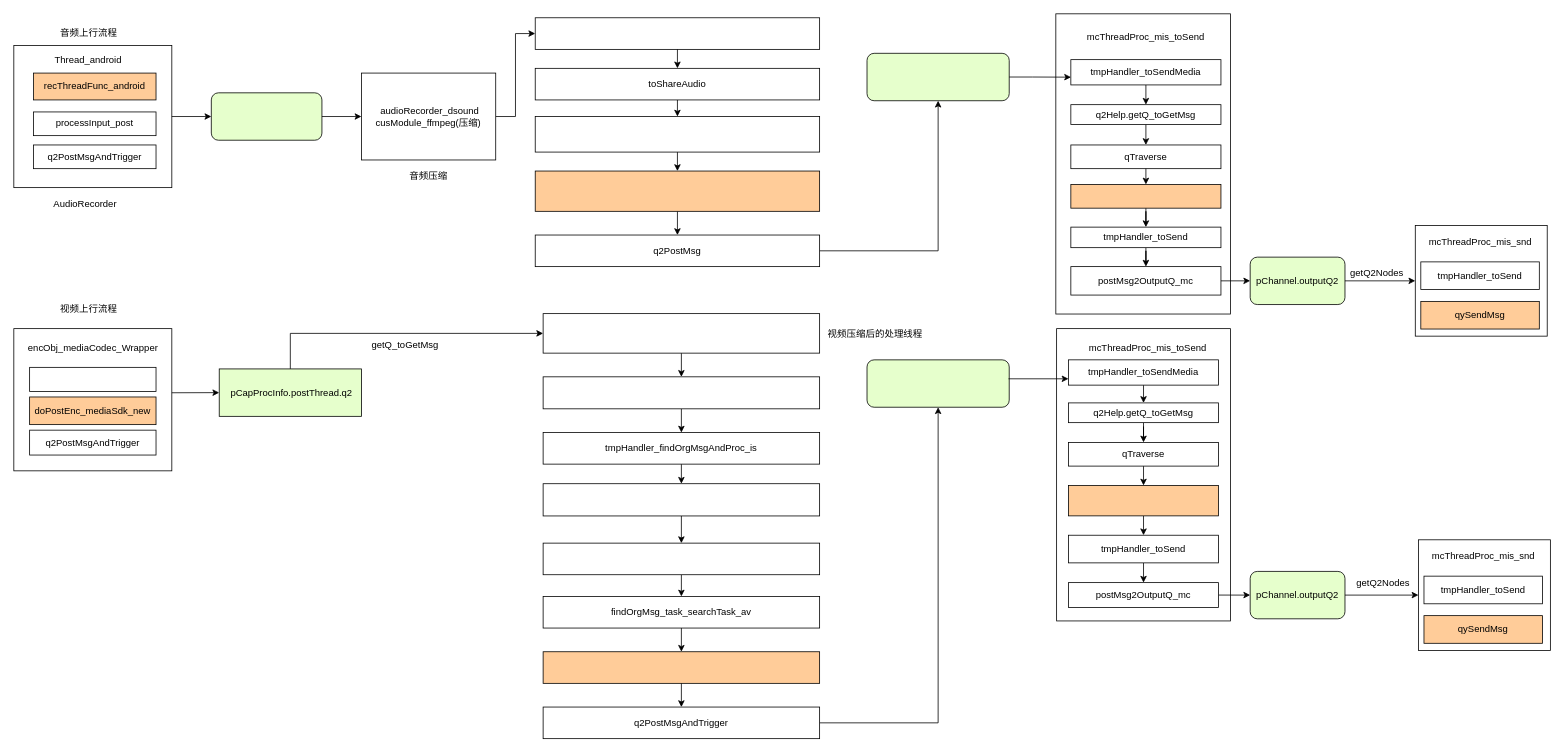
This 1564x753 diagram has some shape labels left out. The centre of each missing label's shape, as x and y in pixels:
"encObj_mediaCodec" goes at (x=92, y=379).
"findOrgMsg_task" goes at (x=681, y=499).
"findOrgMsg_task_searchTask" goes at (x=681, y=558).
"pCapAudio.thread.q2" goes at (x=266, y=116).
"pProcInfo1.processQ_media.qTraverse" goes at (x=677, y=134).
"pTask.mixer.pOutputQ2" goes at (x=937, y=77).
"pTask.photomosaic.pOutputQ2" goes at (x=937, y=383).
"qyMcMainMediaProc_encAudio" goes at (x=677, y=33).
"qyMcMainMediaProc_toShareVideo_post" goes at (x=681, y=333).
"tmpHandler_findOrgMsgAndProcess_mis_procTaskAudioData" goes at (x=677, y=190).
"tmpHandler_findOrgMsgAndProcess_mis_procTaskVideoData" goes at (x=681, y=667).
"tmpHandler_toMixer_audio" goes at (x=1145, y=196).
"tmpHandler_toMixer_video" goes at (x=1143, y=500).
"toShareVideo_post_qmc" goes at (x=681, y=392).
